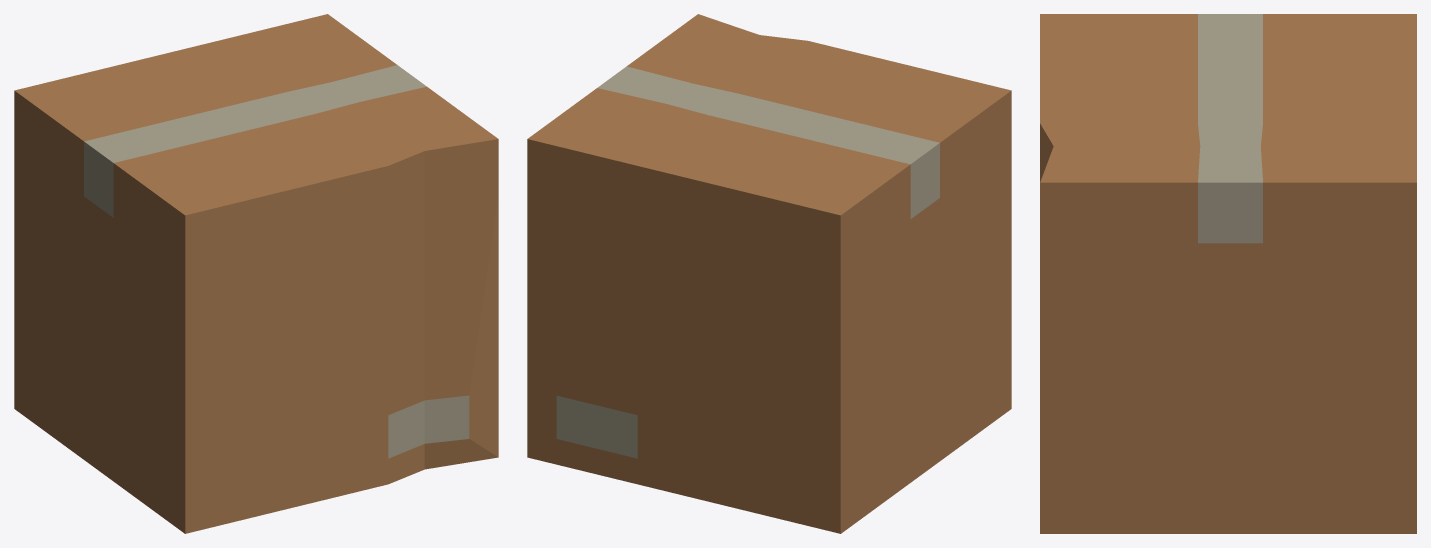
The model's file is CardboardBoxes_2.glb.
3 views of the same model, side by side, from view 1: azimuth 30°, elevation 25°; view 2: azimuth 150°, elevation 25°; view 3: azimuth 270°, elevation 25° (orthographic). The views are drawn at different scales.
Parts seen in each view (by area): view 1: CardboardBoxes_2; view 2: CardboardBoxes_2; view 3: CardboardBoxes_2.
Boxes of the visible parts, x1=… form: CardboardBoxes_2: x1=14, y1=14, x2=498, y2=533; CardboardBoxes_2: x1=527, y1=14, x2=1011, y2=533; CardboardBoxes_2: x1=1040, y1=14, x2=1416, y2=533.
Size of the model in its own units: 0.9755 by 0.9473 by 0.9207.
